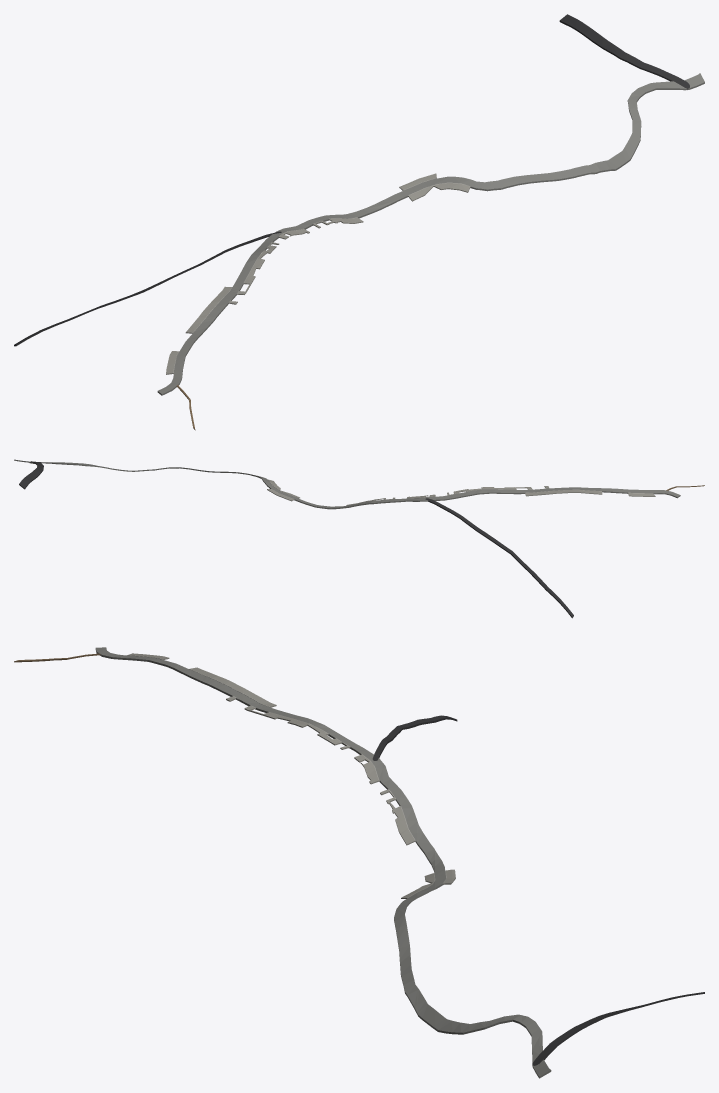
File: 16-54724-29732.0f5fbec5.glb
The picture shows the model from 3 angles, top to bottom: view 1: azimuth 30°, elevation 25°; view 2: azimuth 150°, elevation 25°; view 3: azimuth 270°, elevation 25°; orthographic projection. The views are drawn at different scales.
Bounding box in the file's own units: 587 × 76.05 × 396.
